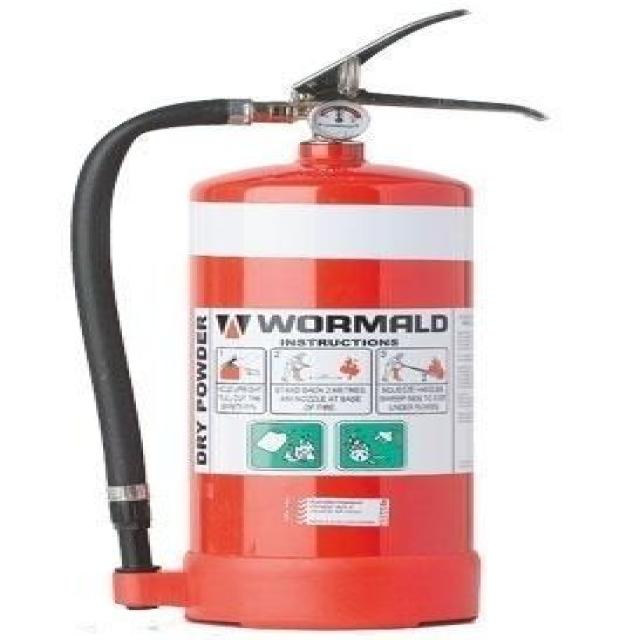fire_extinguisher: (61, 4, 553, 633)
